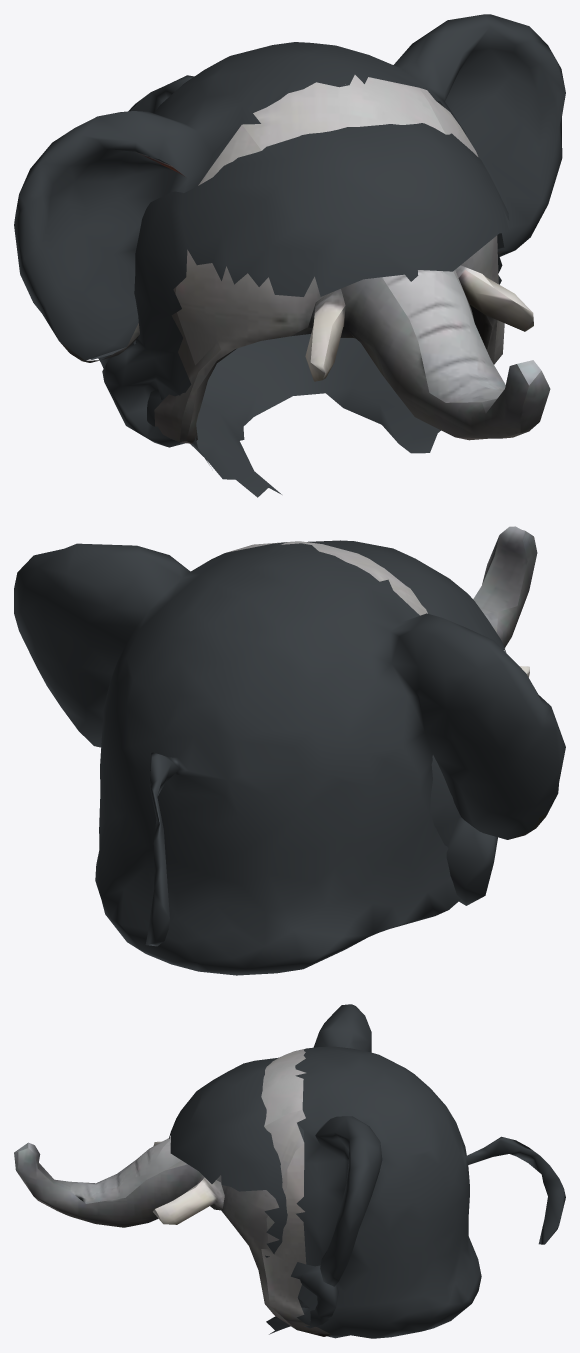
File: elephant.glb
3 renders of one model, top to bottom at view 1: azimuth 30°, elevation 25°; view 2: azimuth 150°, elevation 25°; view 3: azimuth 270°, elevation 25°, orthographic. The views are drawn at different scales.
Visible parts, largest first — view 1: geometry_0, HoodAnatomicalLining; view 2: geometry_0, HoodAnatomicalLining; view 3: geometry_0, HoodAnatomicalLining.
Part boxes in pixels (x1=…): geometry_0: x1=14, y1=14, x2=565, y2=443; HoodAnatomicalLining: x1=102, y1=123, x2=509, y2=497; geometry_0: x1=14, y1=526, x2=565, y2=975; HoodAnatomicalLining: x1=307, y1=540, x2=505, y2=905; geometry_0: x1=14, y1=1004, x2=565, y2=1338; HoodAnatomicalLining: x1=169, y1=1057, x2=338, y2=1334.
Size of the model in its own units: 0.664 by 0.4346 by 0.8531.
2 materials, 1 textured.
